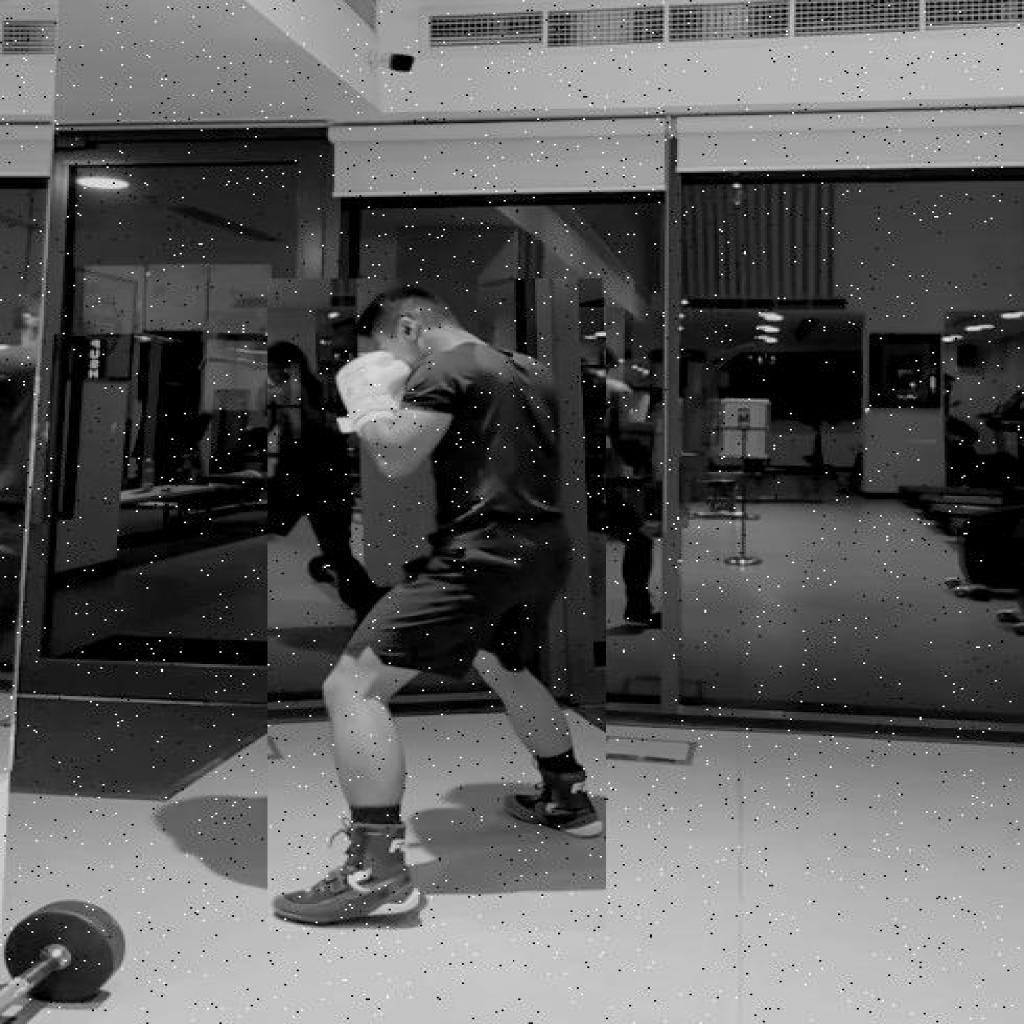no punch: (267, 278, 605, 930)
